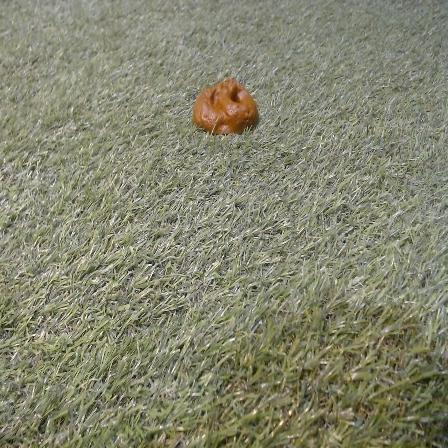dog-poop: (193, 77, 258, 134)
